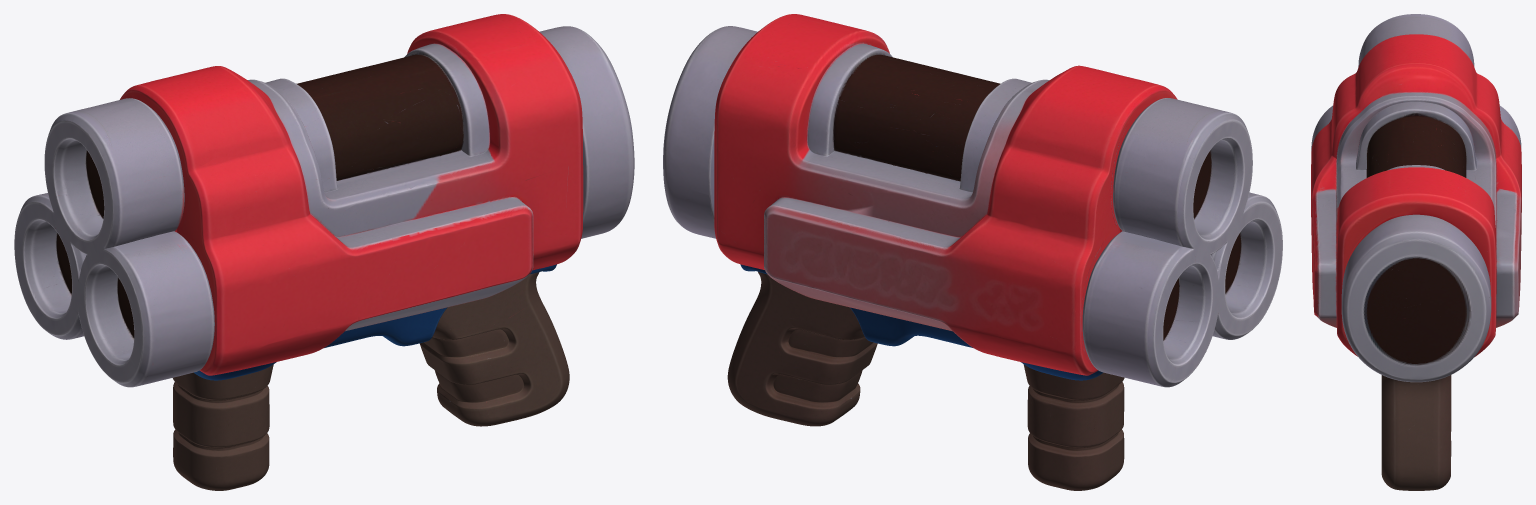
Rendered from brocken_waffe_original.glb.
3 renders of one model, left to right at view 1: azimuth 30°, elevation 25°; view 2: azimuth 150°, elevation 25°; view 3: azimuth 270°, elevation 25°, orthographic. The views are drawn at different scales.
Bounding box in the file's own units: 1.9 × 1.41 × 0.8625.
1 material, 1 textured.
